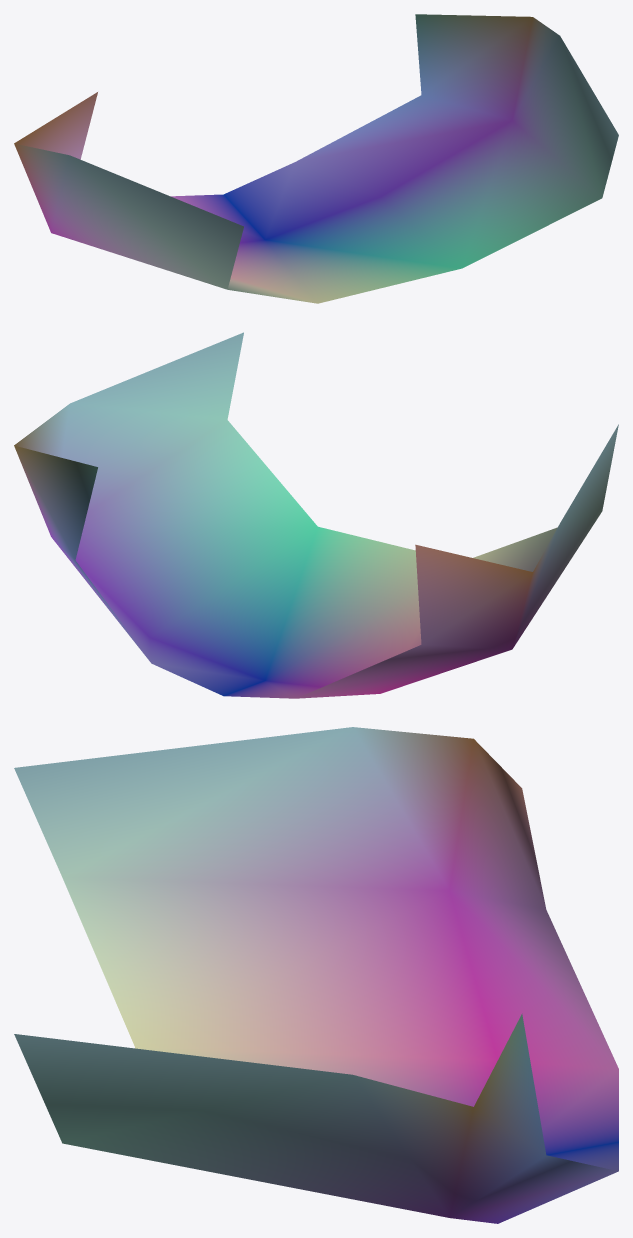
3 renders of one model, top to bottom at view 1: azimuth 30°, elevation 25°; view 2: azimuth 150°, elevation 25°; view 3: azimuth 270°, elevation 25°, orthographic. The views are drawn at different scales.
Visible parts, largest first — view 1: part; view 2: part; view 3: part.
Boxes of the visible parts, x1,y1,x2,y2 form: part: [14, 14, 618, 303]; part: [14, 332, 618, 698]; part: [14, 727, 618, 1223].
Bounding box in the file's own units: 36 × 12 × 25.
